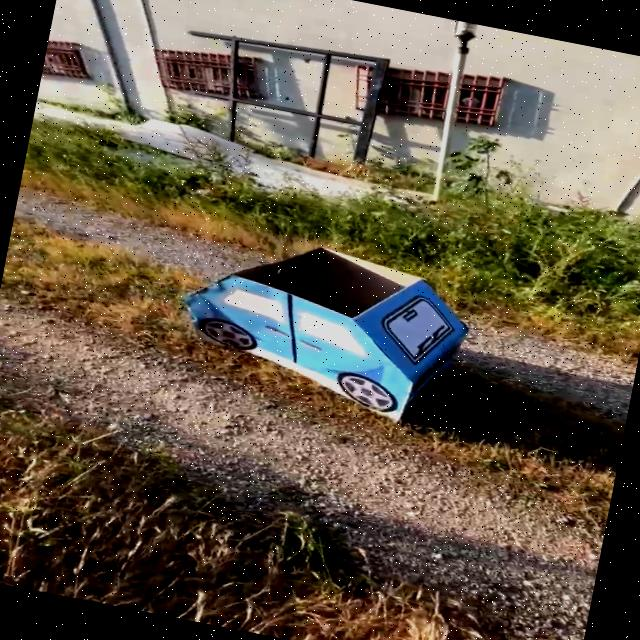blue_car: (127, 201, 571, 469)
